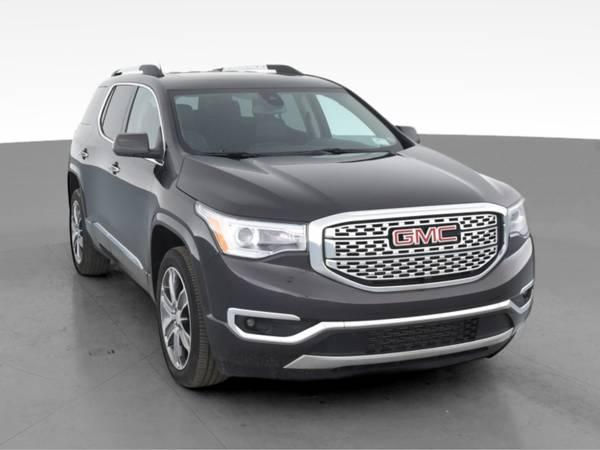Front_Bumper: (203, 230, 537, 374)
Front_Fender: (152, 150, 219, 263)
Front_Right_Door: (112, 153, 164, 292)
Front_Right_Window: (121, 87, 167, 172)
Front_Windshield: (173, 87, 414, 158)
Grille: (308, 203, 508, 287)
Hood: (176, 145, 520, 218)
Left_Headlight: (506, 198, 527, 235)
Rear_Fender: (67, 125, 97, 172)
Rear_Right_Door: (79, 130, 121, 260)
Rear_Right_Window: (97, 86, 137, 148)
Right_Headlight: (194, 200, 308, 259)
Roof: (77, 71, 345, 153)
Wheel: (153, 245, 224, 387), (69, 191, 111, 278)
